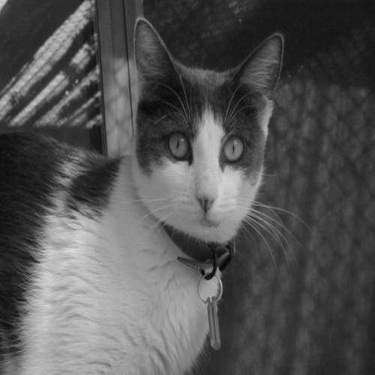cat: (1, 13, 288, 371)
